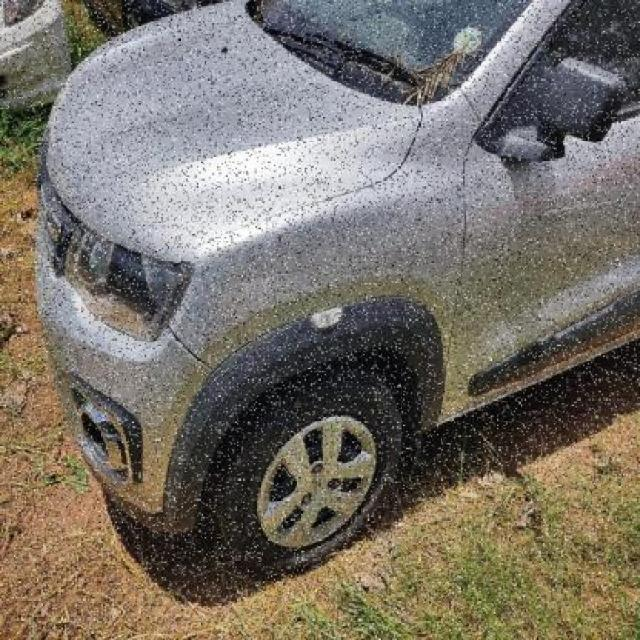fender-dent: (188, 251, 451, 399)
